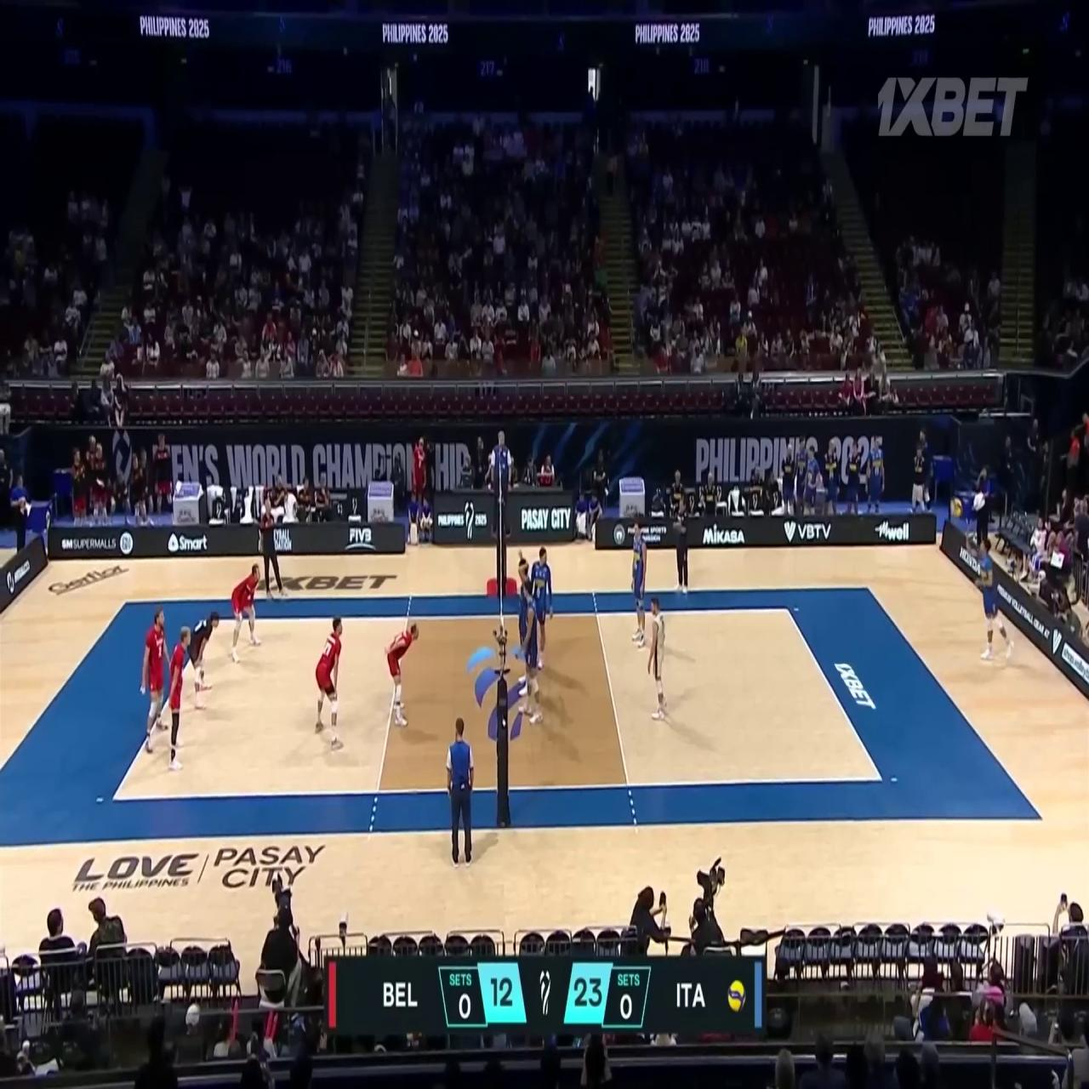ball: (951, 498, 962, 518)
